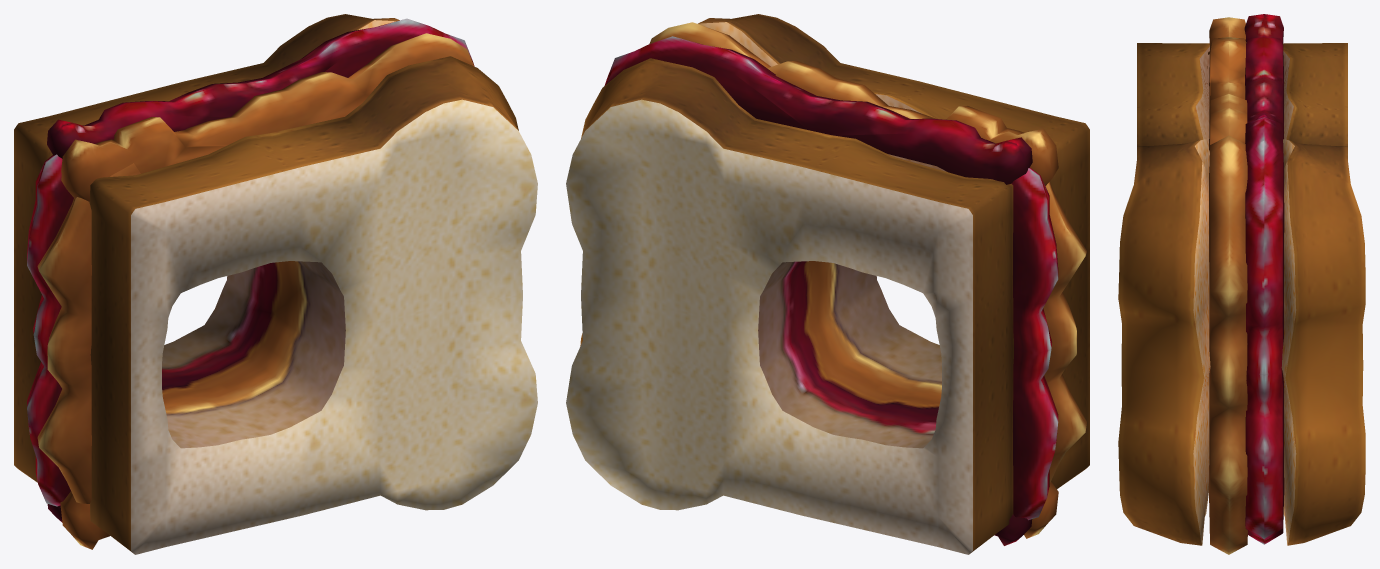
Rendered from PeanutButterJellyHat.fbx.
3 renders of one model, left to right at view 1: azimuth 30°, elevation 25°; view 2: azimuth 150°, elevation 25°; view 3: azimuth 270°, elevation 25°, orthographic. The views are drawn at different scales.
Parts seen in each view (by area): view 1: Peanut Butter & Jelly Hat; view 2: Peanut Butter & Jelly Hat; view 3: Peanut Butter & Jelly Hat.
Boxes of the visible parts, bbox=[...] form: Peanut Butter & Jelly Hat: bbox=[14, 14, 537, 554]; Peanut Butter & Jelly Hat: bbox=[566, 14, 1089, 554]; Peanut Butter & Jelly Hat: bbox=[1118, 14, 1365, 554].
Bounding box in the file's own units: 0.2487 × 0.2279 × 0.1242.
